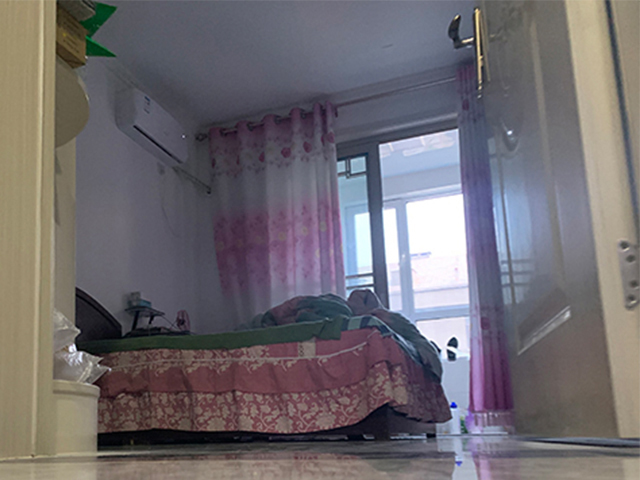bed: (73, 287, 453, 442)
curtain: (202, 99, 344, 297), (458, 58, 516, 428)
